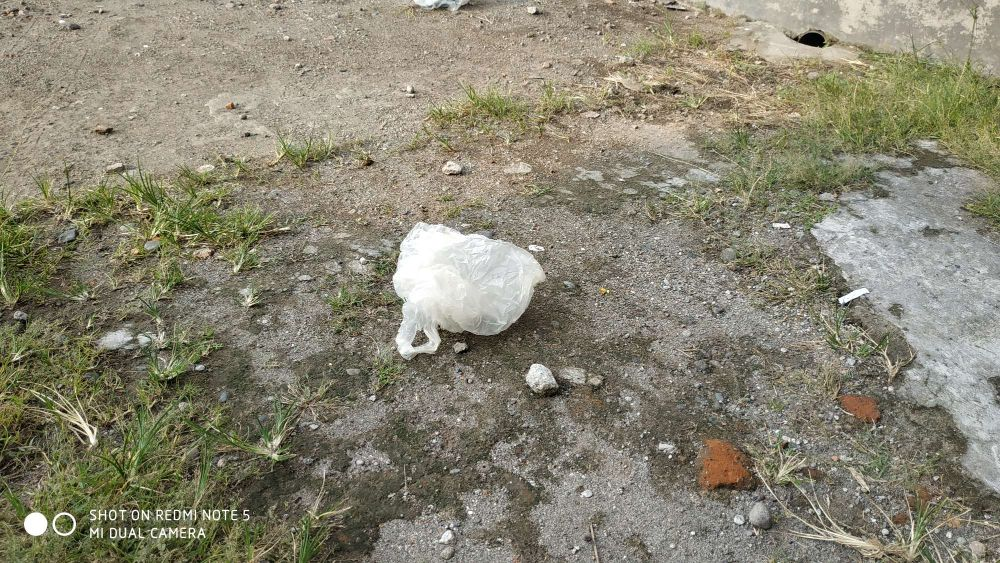plastik: (389, 214, 537, 381)
